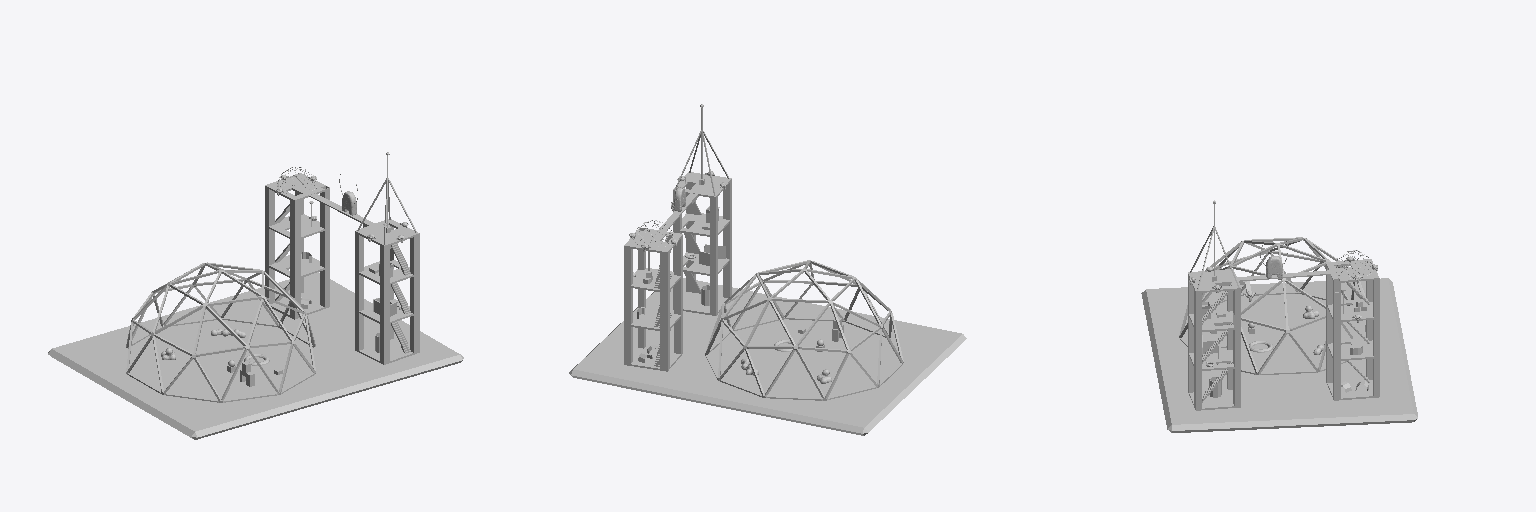
The model's file is testscene.obj.
3 renders of one model, left to right at view 1: azimuth 30°, elevation 25°; view 2: azimuth 150°, elevation 25°; view 3: azimuth 270°, elevation 25°, orthographic.
Parts seen in each view (by area): view 1: Plane; view 2: Plane; view 3: Plane.
Part boxes in pixels (left/top/right/bottom): Plane: left=48, top=152, right=463, bottom=439; Plane: left=569, top=104, right=966, bottom=435; Plane: left=1141, top=200, right=1417, bottom=432.
Bounding box in the file's own units: 113 × 72.41 × 87.48.